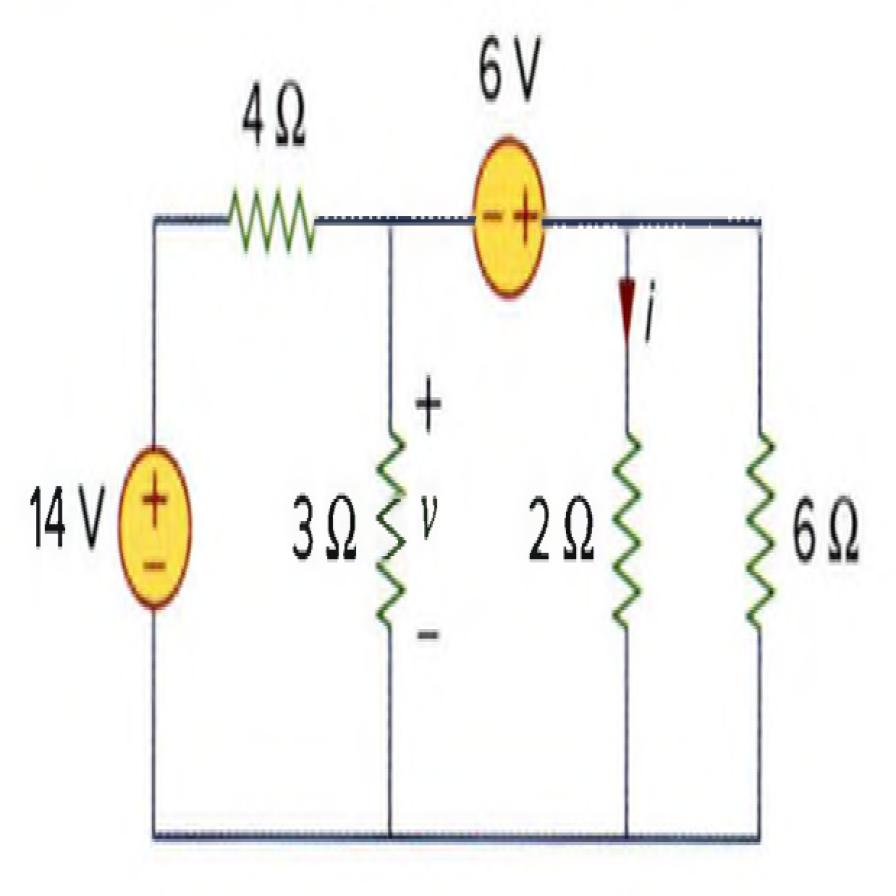R1: (213, 154, 322, 270)
R2: (594, 402, 656, 642), (729, 401, 788, 641), (363, 398, 411, 639)
V1: (112, 436, 196, 625)
V2: (458, 118, 556, 315)
